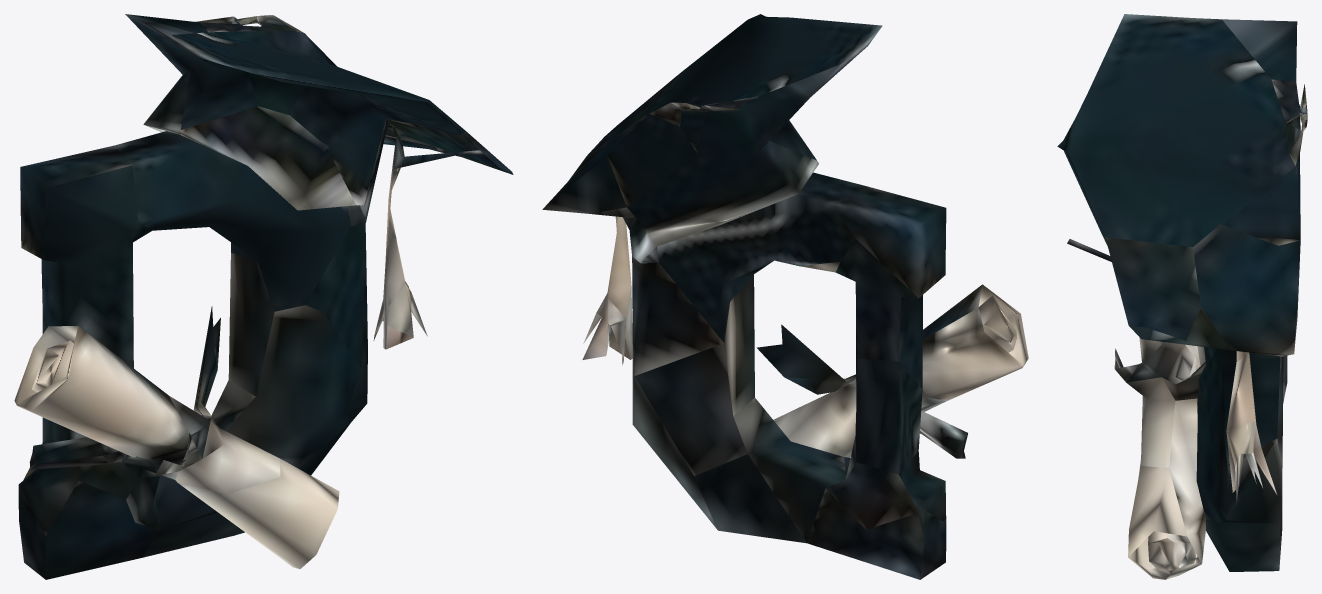
3 views of the same model, side by side, from view 1: azimuth 30°, elevation 25°; view 2: azimuth 150°, elevation 25°; view 3: azimuth 270°, elevation 25° (orthographic). The views are drawn at different scales.
Parts seen in each view (by area): view 1: Graduation-D; view 2: Graduation-D; view 3: Graduation-D.
Part boxes in pixels (x1,y1,x2,y2): Graduation-D: (14,14,513,579); Graduation-D: (542,14,1028,579); Graduation-D: (1057,14,1307,579).
Size of the model in its own units: 0.2828 by 0.304 by 0.1319.
Materials: 1 (1 with a texture image).
